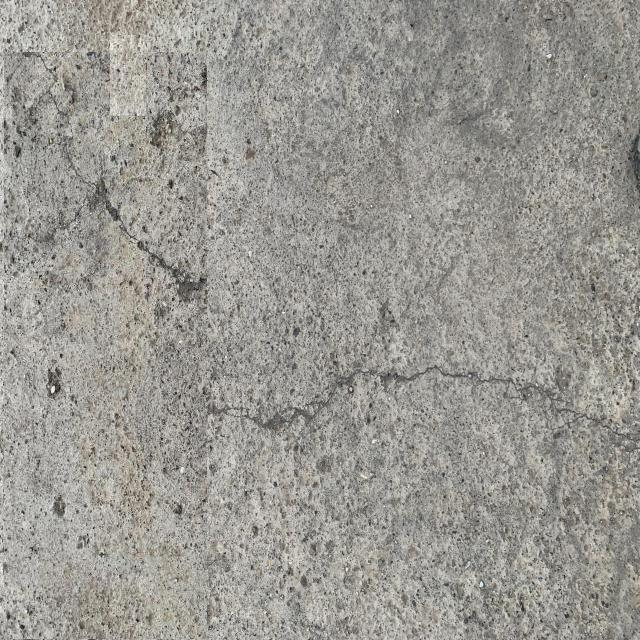diagonal crack: (0, 0, 206, 323)
horizontal crack: (211, 352, 640, 485)
